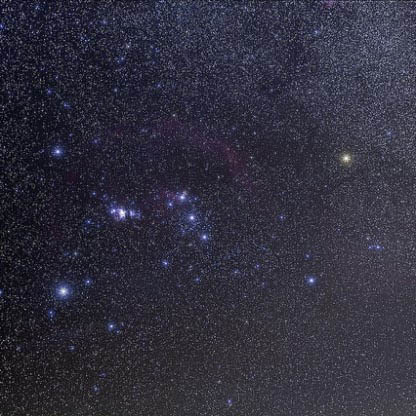Orion: (322, 142, 357, 169), (50, 279, 76, 307), (176, 205, 202, 230), (167, 179, 190, 203), (301, 267, 323, 292), (45, 141, 70, 162), (195, 230, 216, 249)
